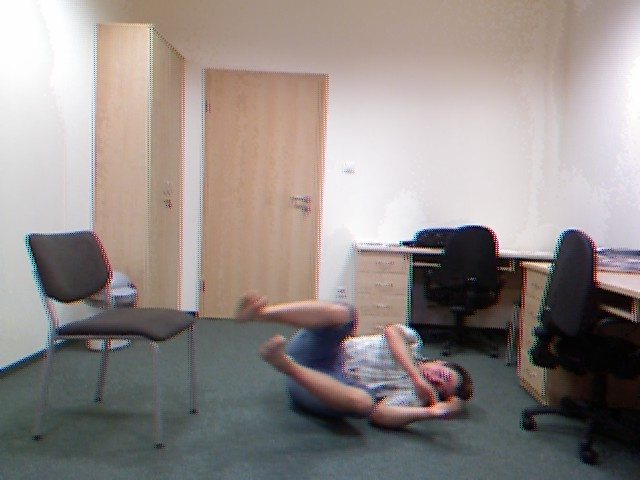fall: (238, 285, 478, 444)
